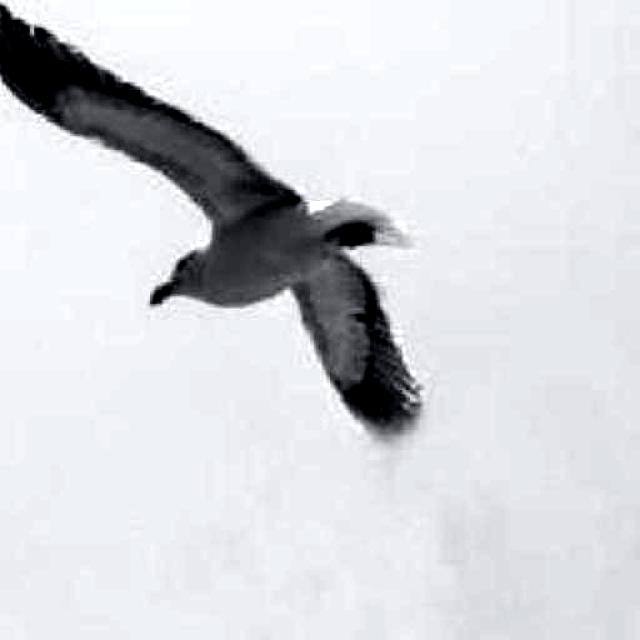airplane: (0, 0, 424, 448)
